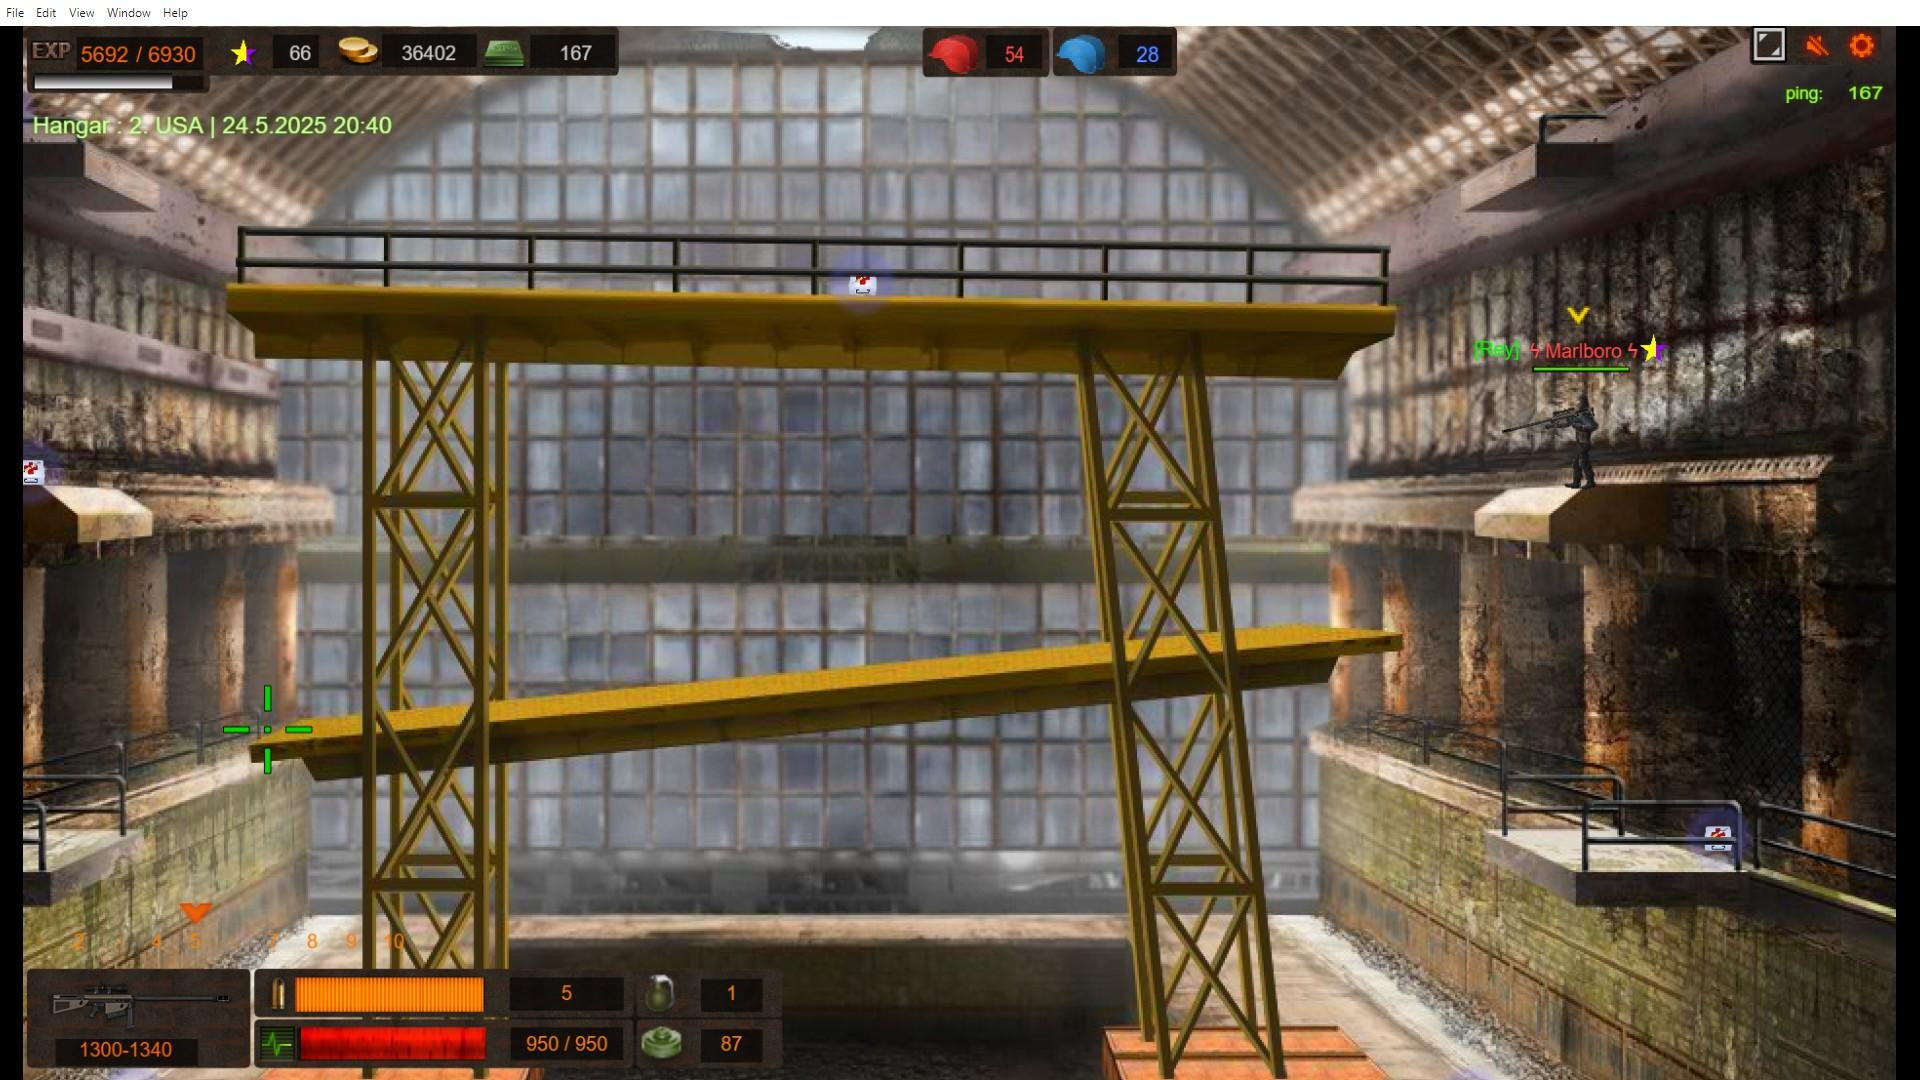enemy: (1572, 398, 1596, 487)
